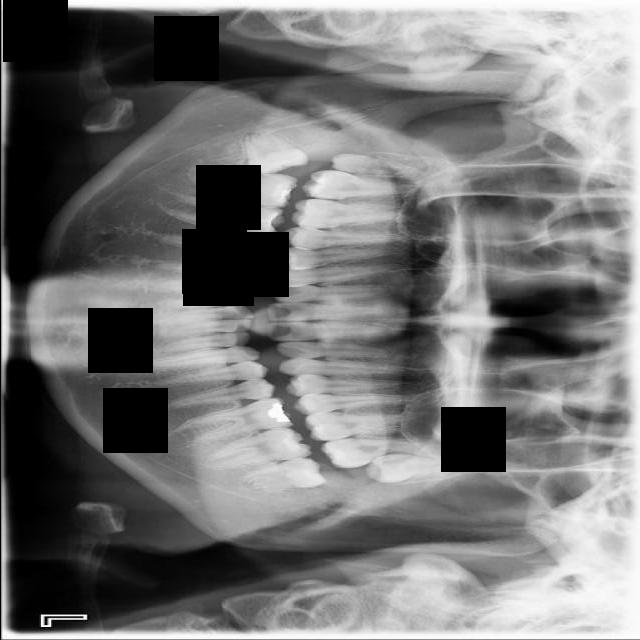3M ESPE Implant: (329, 152, 426, 180)
52: (231, 196, 288, 245), (239, 393, 294, 436), (239, 171, 298, 209), (300, 167, 356, 201)
73: (44, 588, 70, 599)
BioHorizons Implant: (320, 429, 438, 471)
BioLife Implant: (364, 453, 460, 483)
Biomet 3i Implant: (240, 456, 326, 493)
Blue Sky Bio Implant: (201, 423, 313, 471)
Caries: (301, 168, 420, 203)
Implant: (185, 164, 297, 211)
Keystone Dental Implant: (238, 119, 310, 180)
